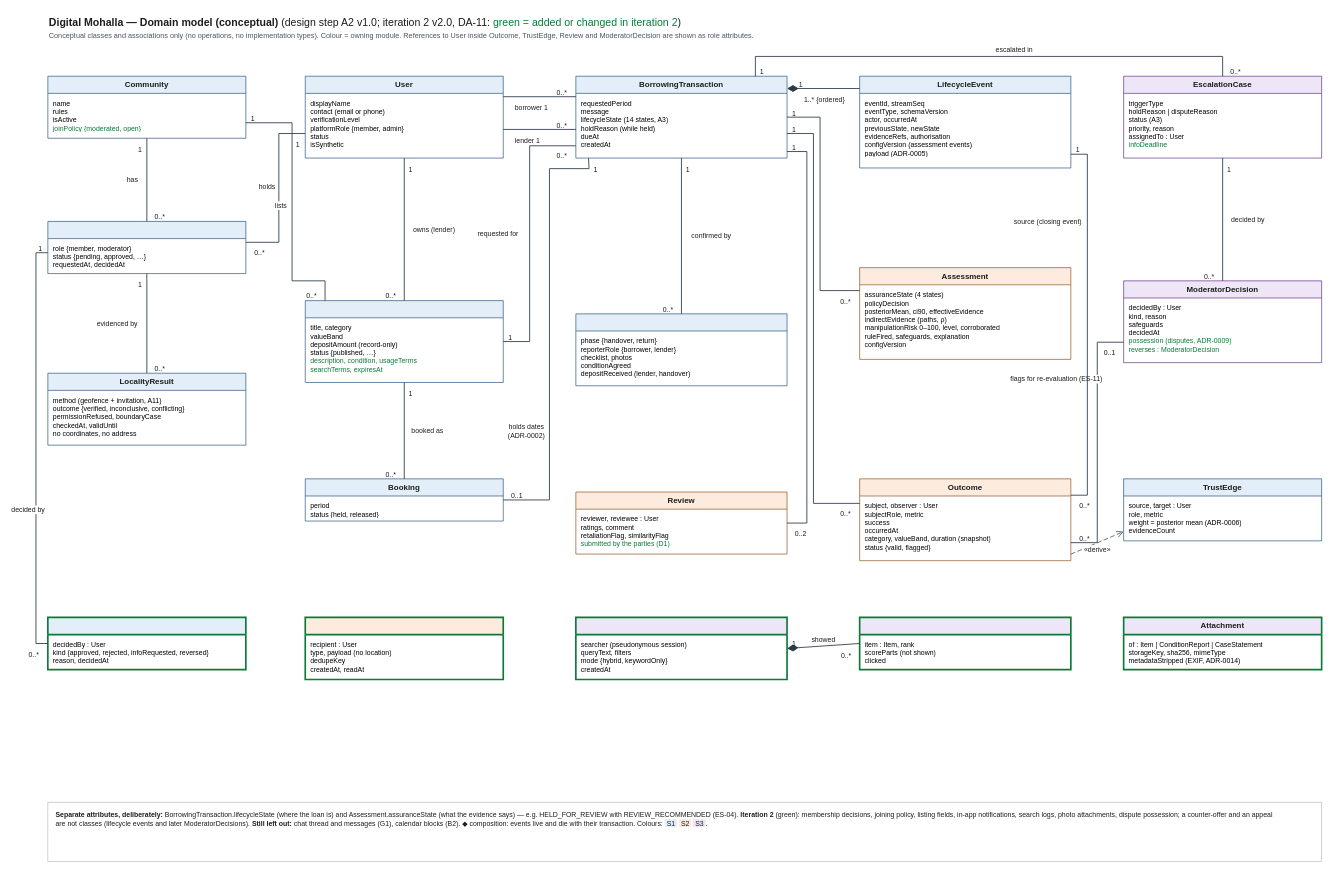
The diagram is 1334 pixels wide and 873 high, and some of its shapes have lost their labels. The shapes that lost their labels are listed below. From the top down, each one's box as (x1, y1, x2, y2) in pixels, then its label:
(47, 221, 246, 274): Membership
(305, 300, 503, 382): Item
(575, 313, 787, 386): ConditionReport
(47, 616, 246, 670): MembershipDecision
(304, 616, 504, 680): Notification
(575, 616, 788, 680): SearchQuery
(859, 616, 1071, 670): SearchImpression
